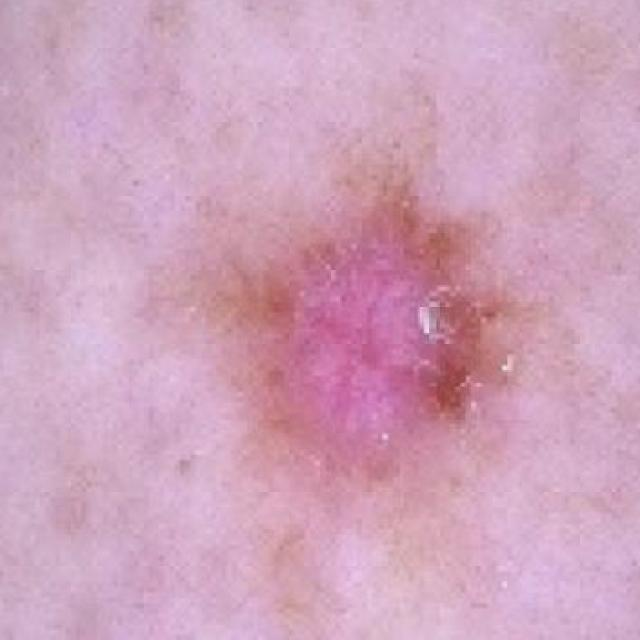DF: (183, 138, 640, 588)
